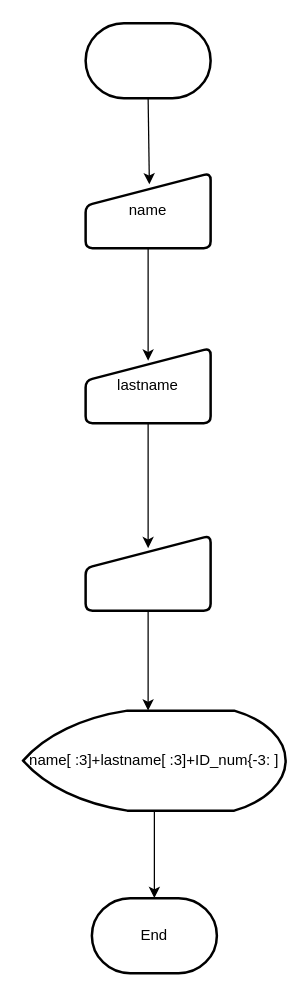
Image size: 308x995. Some labels were removed from this diagram. The box of each missing label's shape, as (x1, y1, x2, y2) in pixels:
ID_num: (84, 534, 211, 611)
start: (84, 21, 211, 99)
